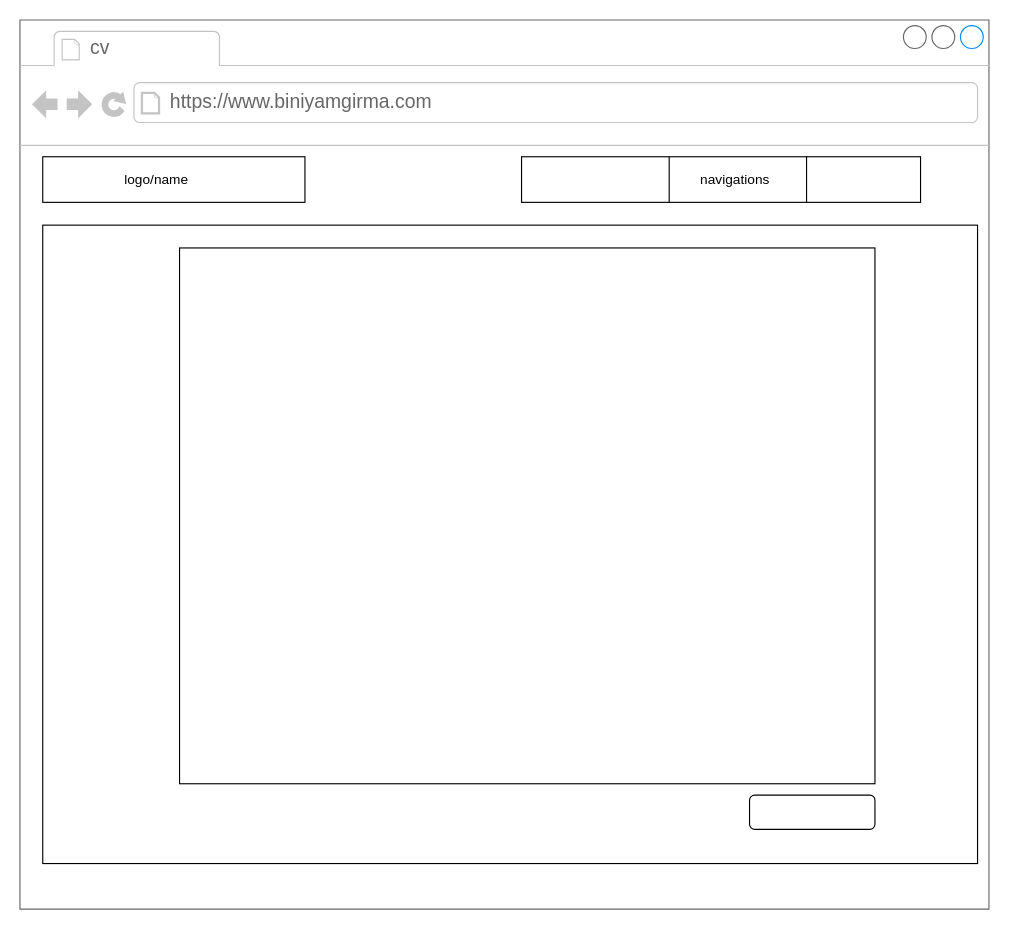
Image size: 1009x929. Some labels were removed from this diagram. Here are the shapes that lost their labels. From the top down, the centre of each, then its label:
(526,515): my cv
(811,811): button(download)
